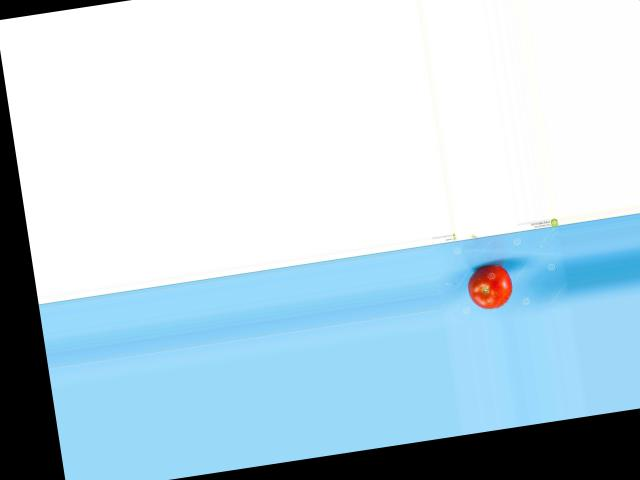tomato: (464, 263, 514, 311)
